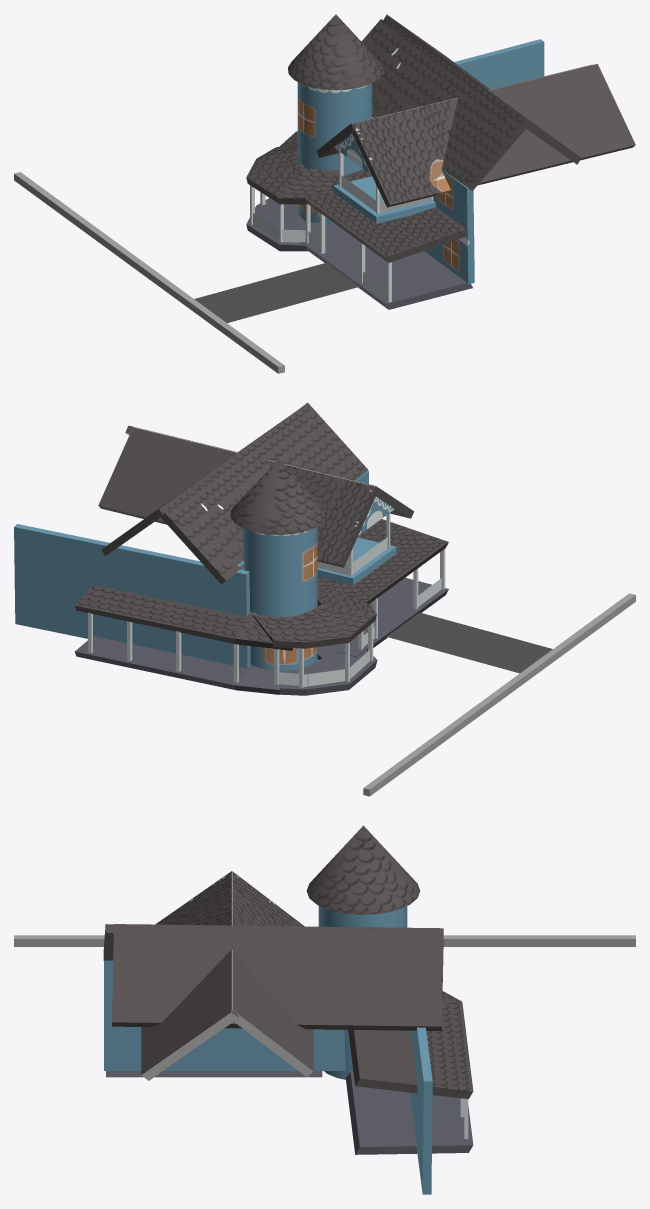
Rendered from Emily's house.glb.
3 renders of one model, top to bottom at view 1: azimuth 30°, elevation 25°; view 2: azimuth 150°, elevation 25°; view 3: azimuth 270°, elevation 25°, orthographic. The views are drawn at different scales.
Parts seen in each view (by area): view 1: pCylinder2; view 2: pCylinder2; view 3: pCylinder2.
Part boxes in pixels (box(x1,y1,x2,y2)): pCylinder2: box(14, 14, 635, 373); pCylinder2: box(14, 402, 635, 796); pCylinder2: box(14, 825, 635, 1194).
Bounding box in the file's own units: 0.6748 × 0.2991 × 0.7021.
1 material, 1 textured.
